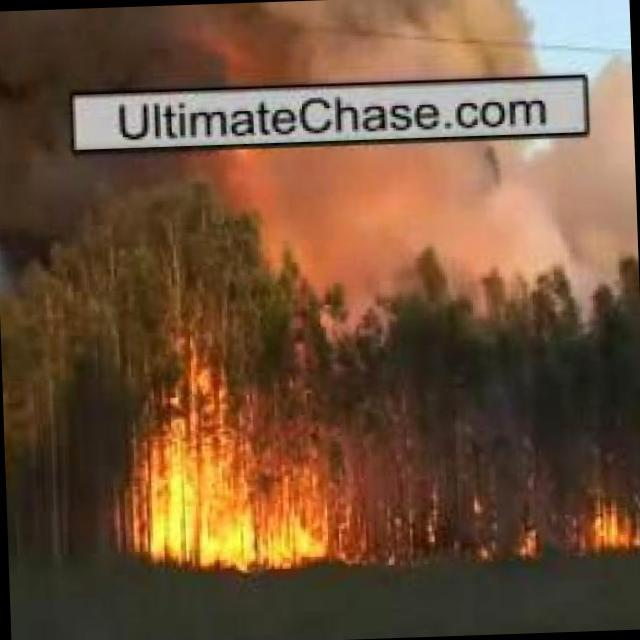Fire: (127, 401, 336, 580), (351, 502, 405, 564), (582, 499, 640, 553), (513, 531, 536, 556)
